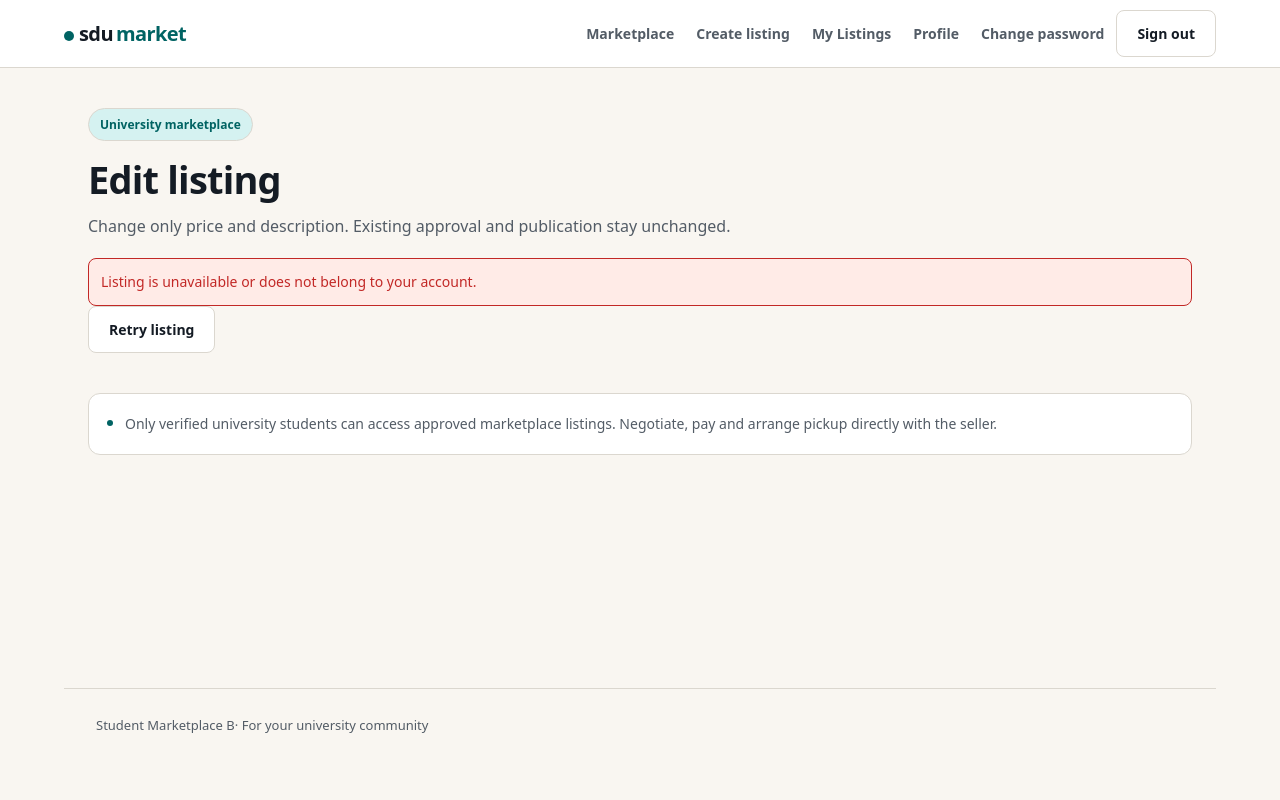
it: missing owner listing is safe and stale state rejection blocks editing until reload
The image size is (1280, 800).
Expected: the message "Listing is unavailable or does not belong to your account." is shown, [88, 258, 1192, 306]
Click the button "Retry listing" at (152, 330), box [88, 306, 216, 353]
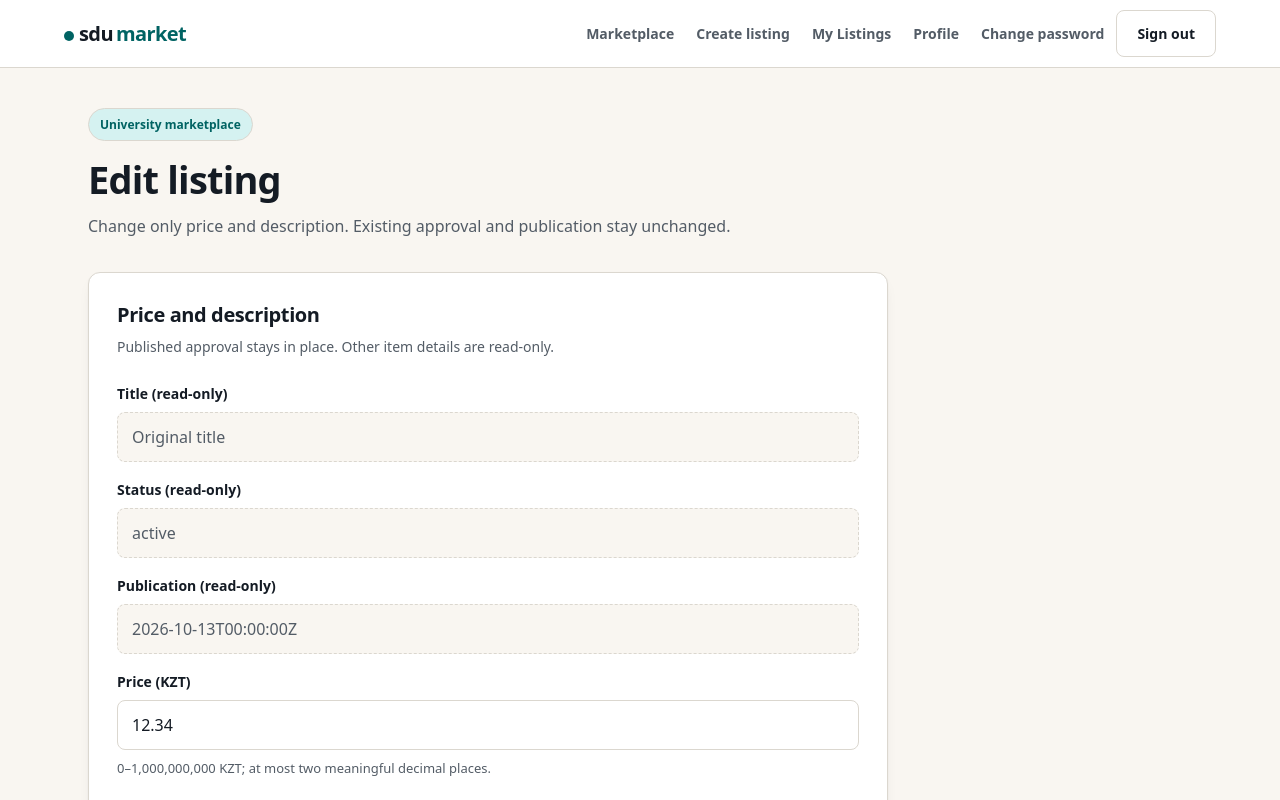
Replace the text in the field labelled "Price (KZT)" with "20.00" at (488, 725), box [117, 700, 859, 750]
(page scrolled)
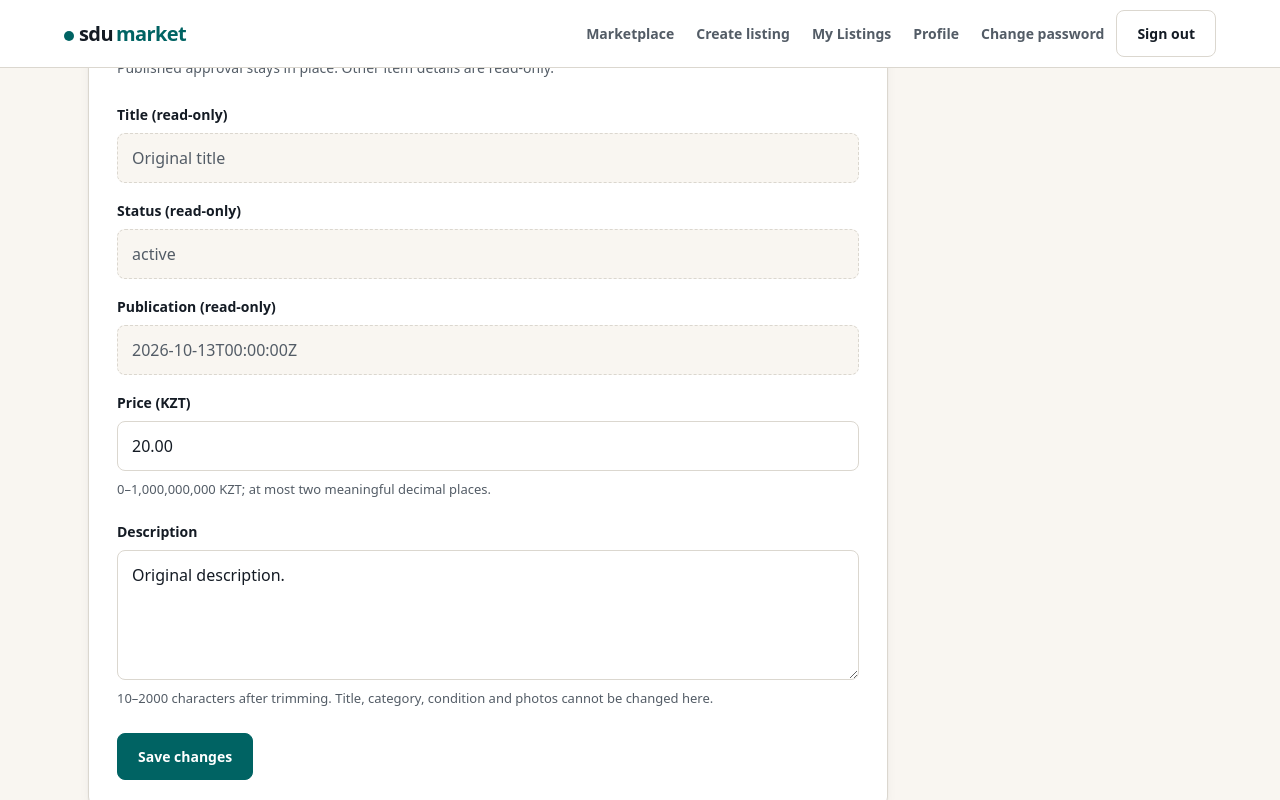
Submit the form named "Edit listing"
(page scrolled)
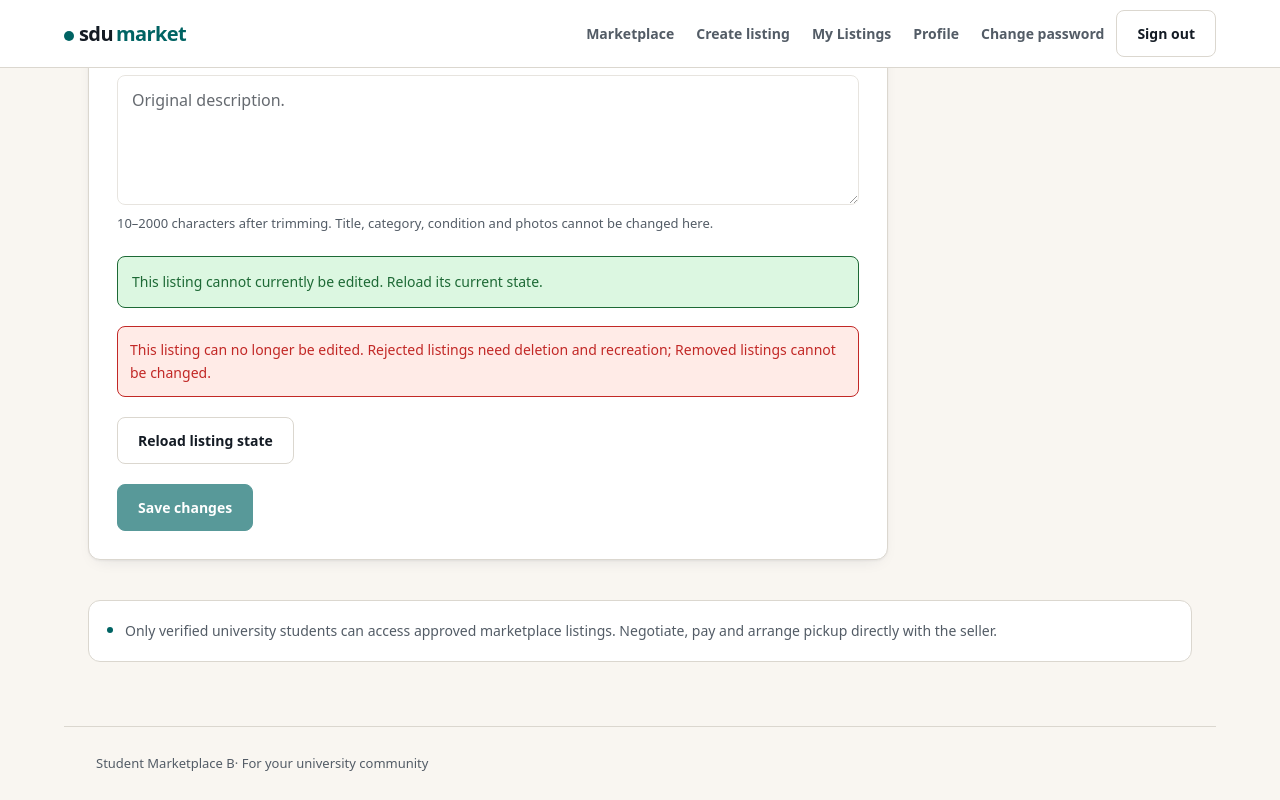
Expected: the button "Reload listing state" is shown, [117, 417, 294, 464]
Expected: the button "Save changes" is disabled, [117, 484, 253, 531]
